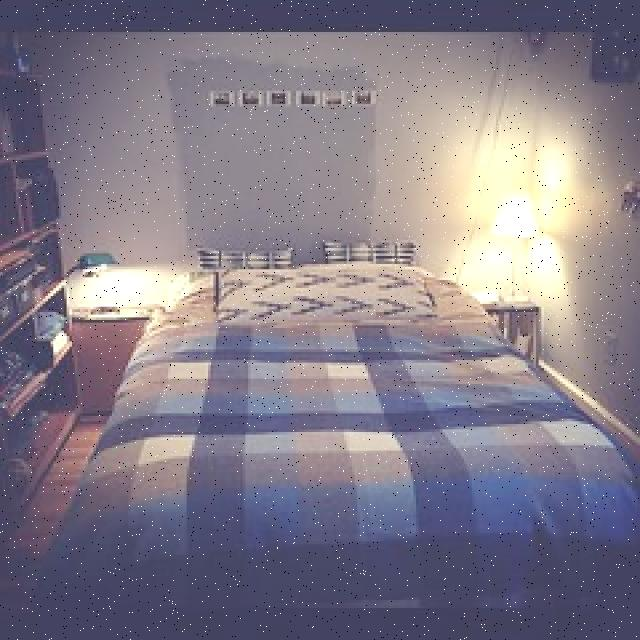bed: (81, 240, 640, 619)
